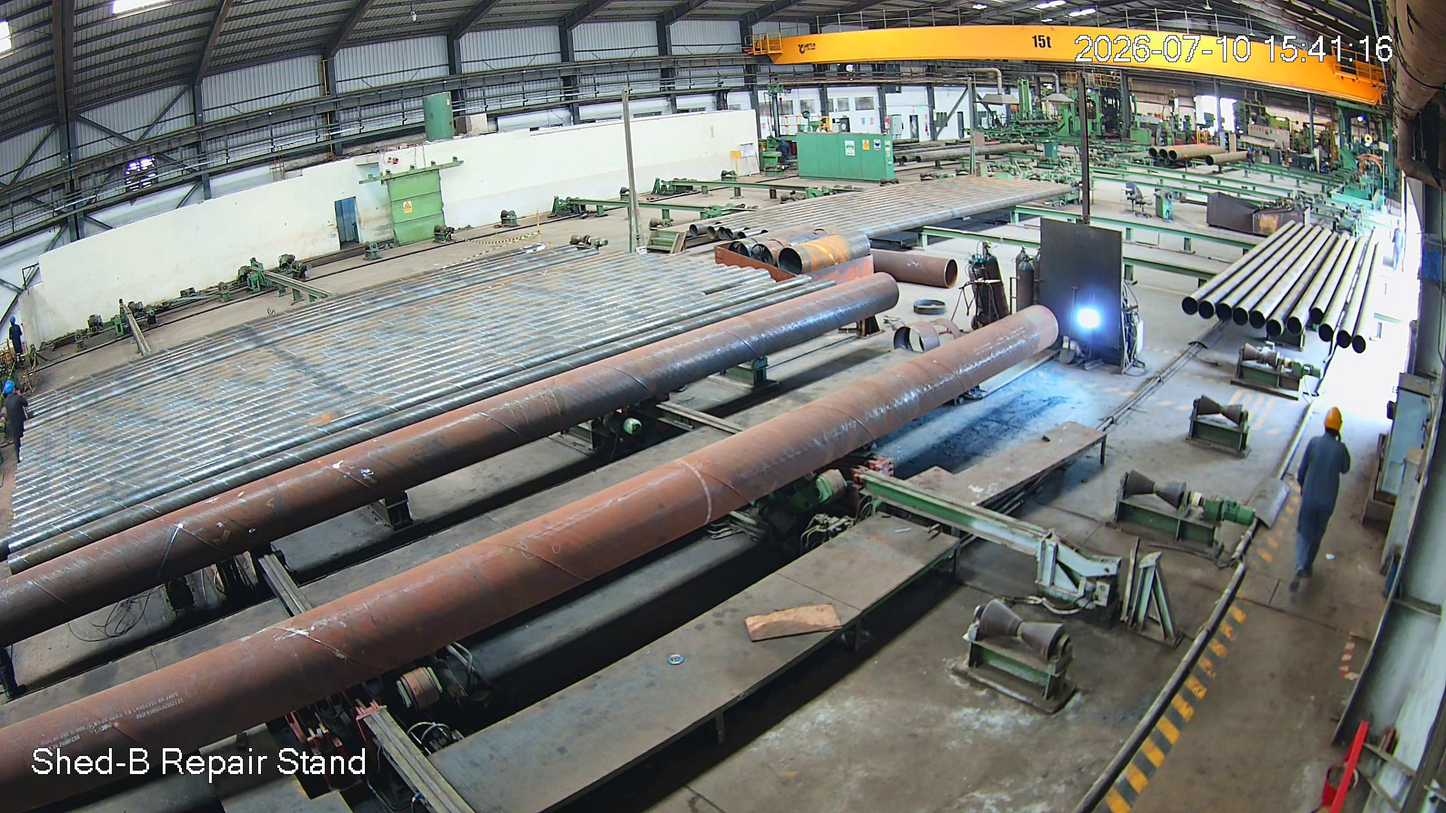Helmet: (1316, 407, 1358, 460), (3, 376, 22, 403), (4, 316, 18, 329)
Person: (1286, 411, 1366, 594), (2, 379, 29, 470), (7, 319, 25, 352)
